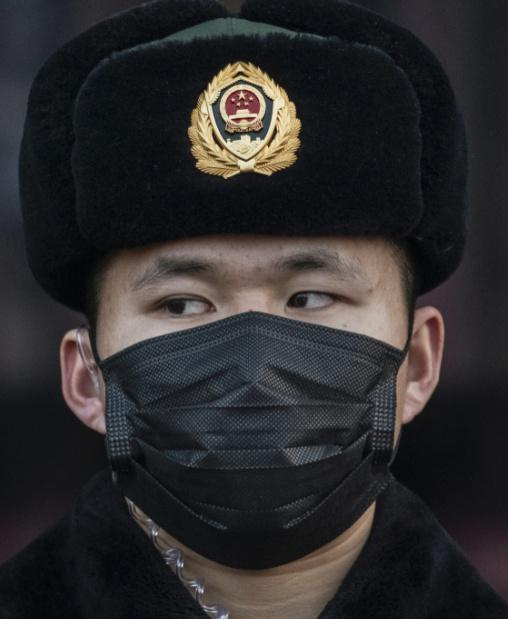OK: (106, 209, 403, 558)
